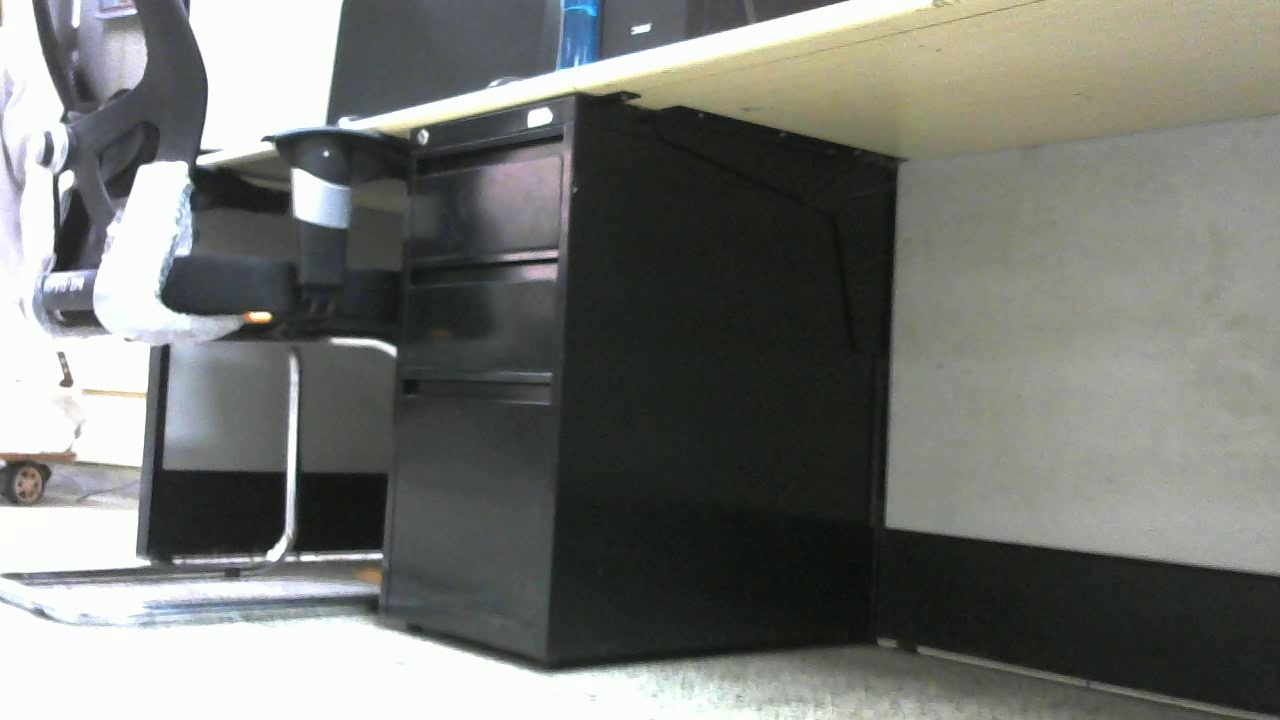chair: (9, 1, 390, 620)
